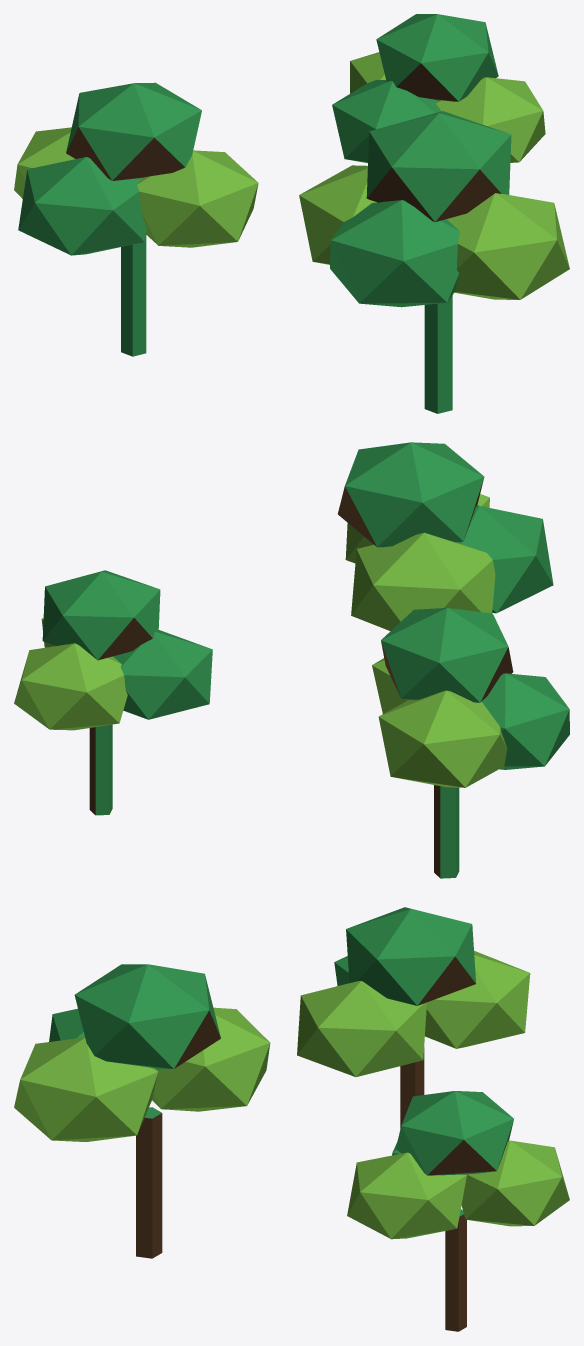
File: Coca.fbx
3 views of the same model, one above another, from view 1: azimuth 30°, elevation 25°; view 2: azimuth 150°, elevation 25°; view 3: azimuth 270°, elevation 25° (orthographic). The views are drawn at different scales.
Parts seen in each view (by area): view 1: Coca; view 2: Coca; view 3: Coca.
Boxes of the visible parts, x1=… form: Coca: x1=14, y1=14, x2=569, y2=413; Coca: x1=14, y1=442, x2=569, y2=878; Coca: x1=14, y1=907, x2=569, y2=1331.
Bounding box in the file's own units: 0.6608 × 0.363 × 0.6335.
